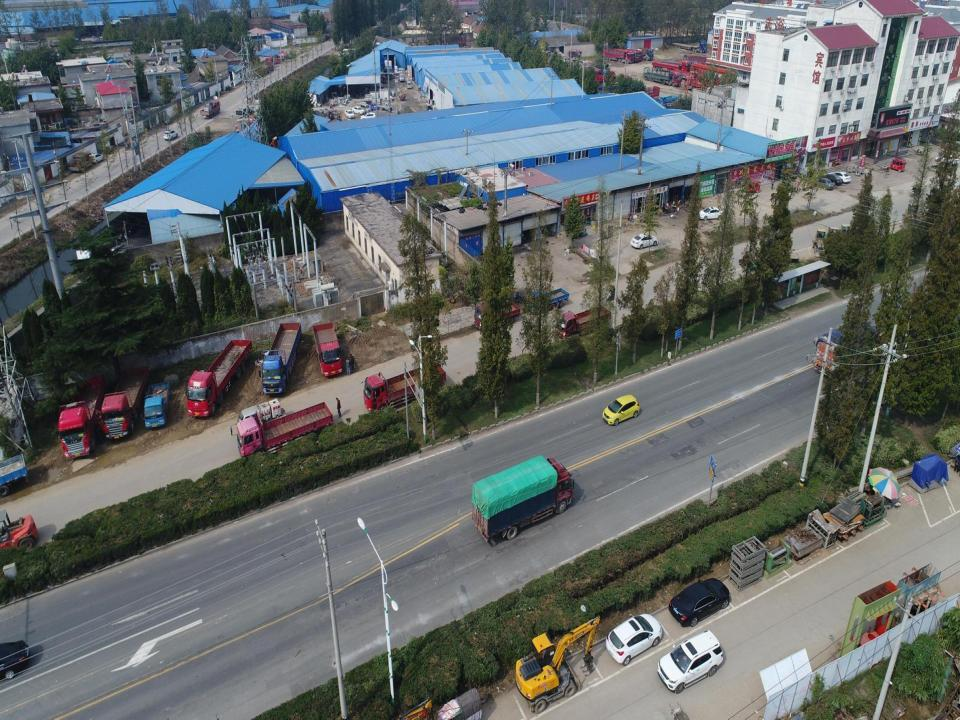car: (656, 628, 727, 696), (665, 576, 733, 630), (606, 610, 664, 666), (600, 392, 641, 429), (631, 232, 658, 250), (697, 206, 723, 221), (814, 176, 835, 190), (823, 173, 843, 187), (830, 171, 852, 183), (89, 151, 106, 164), (162, 128, 178, 141), (351, 106, 365, 116), (360, 112, 376, 120), (344, 109, 355, 118)
truck: (468, 458, 578, 548), (232, 400, 334, 465), (813, 320, 901, 383), (183, 338, 251, 419), (57, 371, 112, 460), (360, 362, 446, 413), (96, 362, 148, 435), (259, 322, 302, 394), (556, 304, 613, 342), (312, 318, 342, 376), (142, 376, 170, 432), (472, 299, 523, 329), (235, 400, 287, 428), (526, 288, 570, 314), (680, 51, 722, 71), (594, 74, 634, 94), (643, 67, 682, 87), (687, 70, 724, 91), (601, 47, 635, 65), (652, 59, 690, 75), (682, 75, 712, 95), (252, 56, 275, 82), (671, 39, 708, 55), (657, 60, 697, 74), (588, 70, 619, 86), (613, 46, 640, 64), (200, 99, 222, 119), (621, 45, 643, 65), (630, 85, 660, 99), (580, 65, 606, 81), (628, 46, 654, 61), (655, 94, 679, 108), (384, 64, 394, 80), (378, 102, 392, 112)
van: (360, 103, 371, 113), (406, 80, 412, 90), (399, 72, 405, 81)
